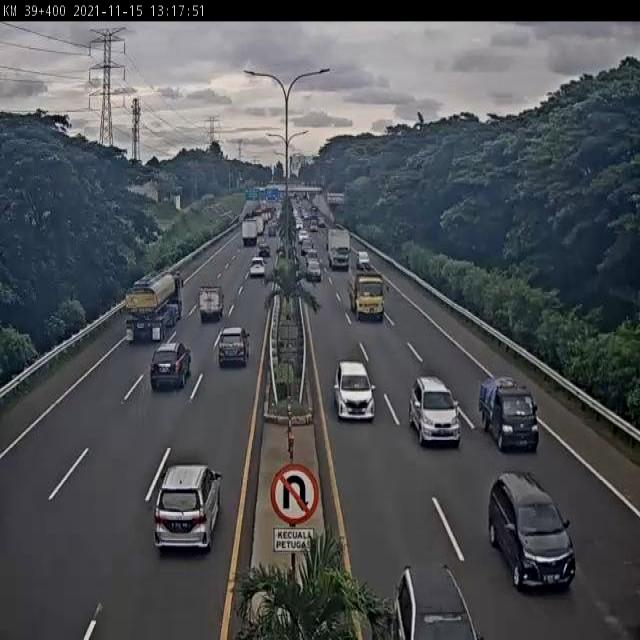Car: (490, 470, 576, 589), (393, 563, 485, 639), (154, 462, 224, 550), (408, 376, 462, 446), (333, 359, 376, 422), (150, 341, 192, 391), (217, 325, 250, 368), (306, 259, 322, 281), (250, 257, 266, 278), (356, 251, 371, 270), (258, 240, 270, 258)
Truck: (125, 269, 185, 347), (479, 375, 539, 452), (348, 272, 391, 324), (327, 228, 353, 271), (198, 284, 224, 322), (242, 217, 256, 247)
